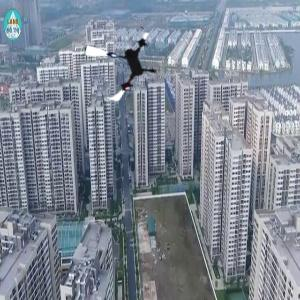drone: (81, 22, 165, 106)
